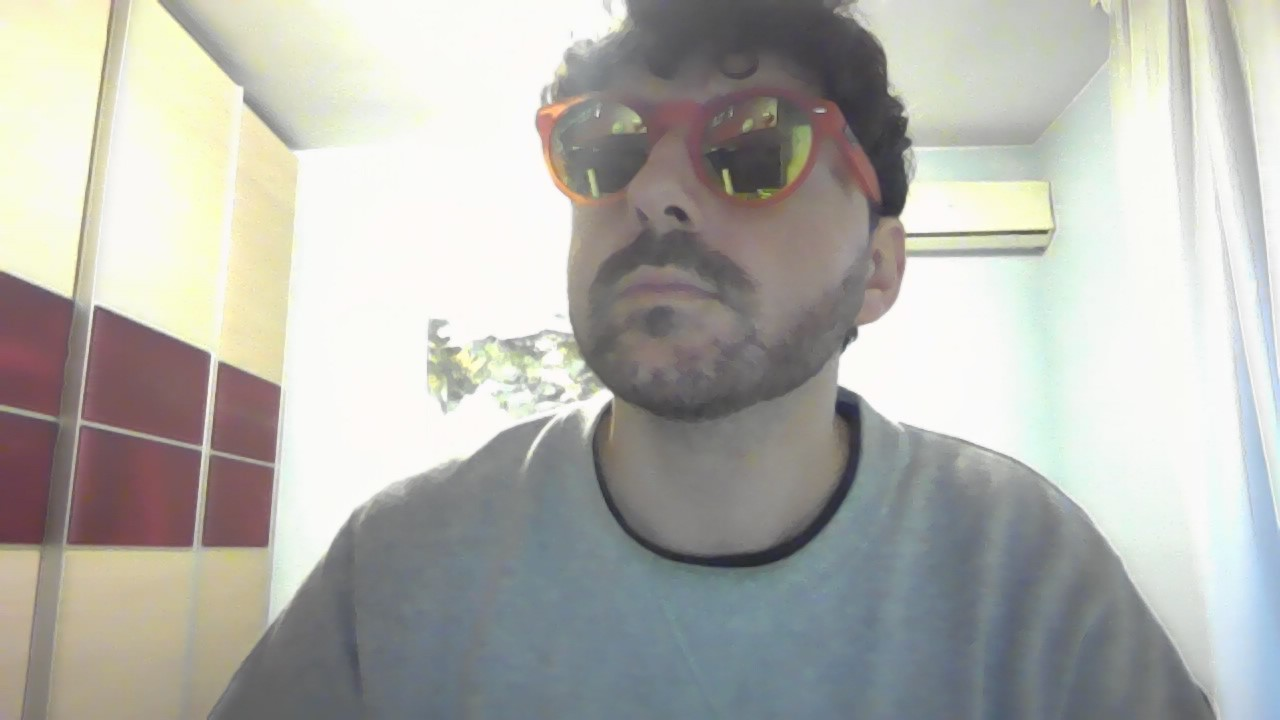Glasses: (509, 86, 949, 230)
